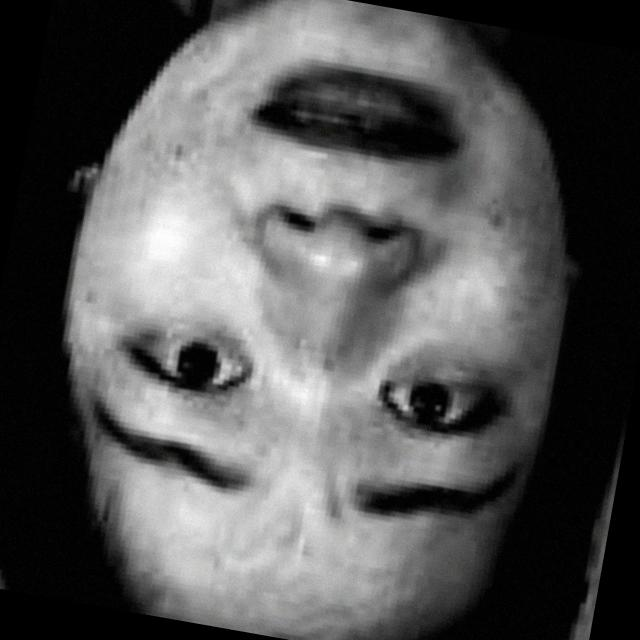fear: (20, 0, 607, 640)
